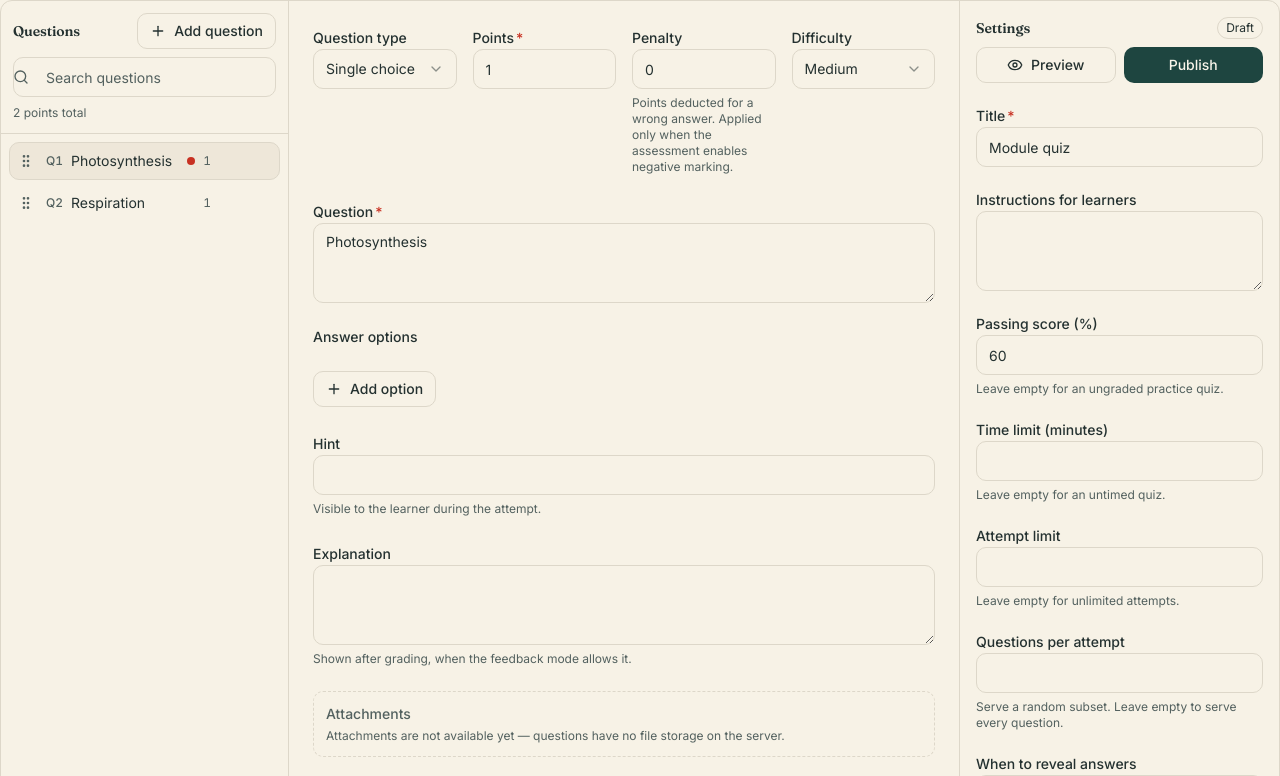
Test: AssessmentBuilder question list › filters the list by search without renumbering the remaining questions
Type "respir" into the field labelled "Search questions".
click(144, 77); type("respir")  # box [13,57,276,97]
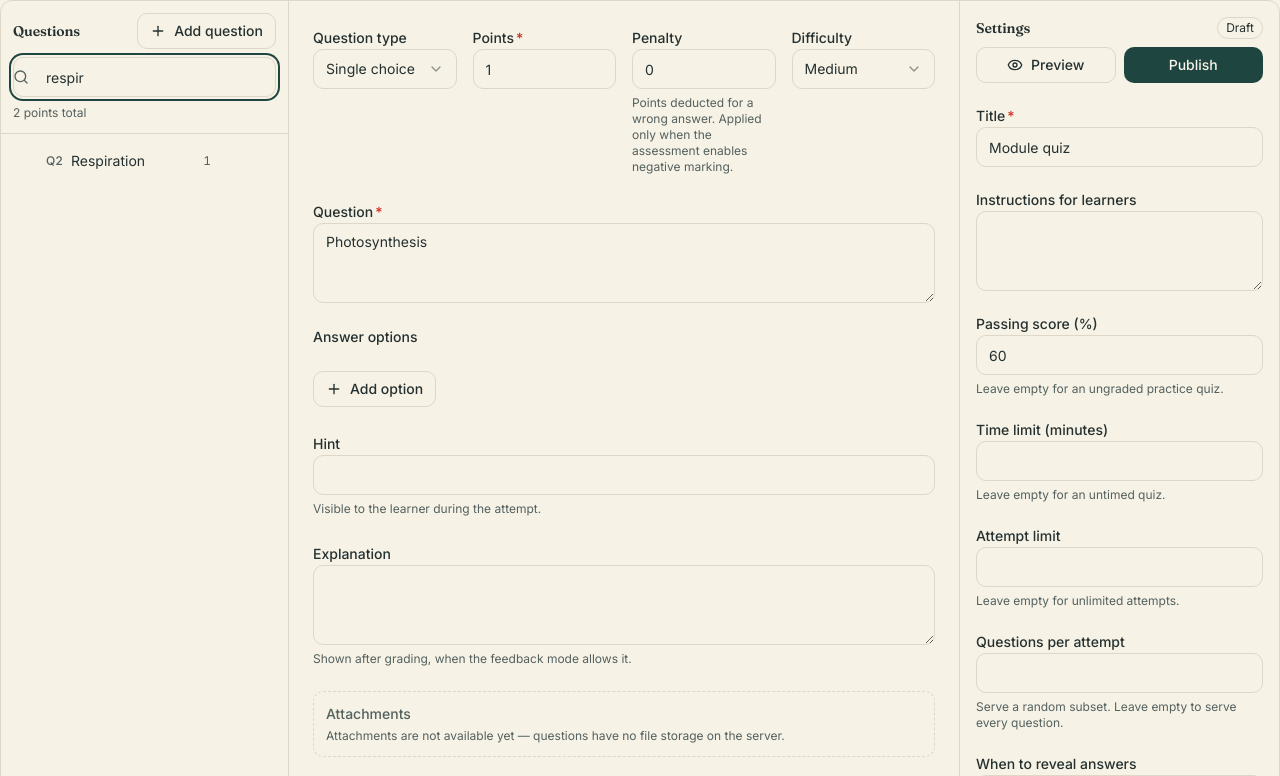
Expected: the text "Q2" is shown, [46,153,63,169]
Expected: the button "Q1" is gone
